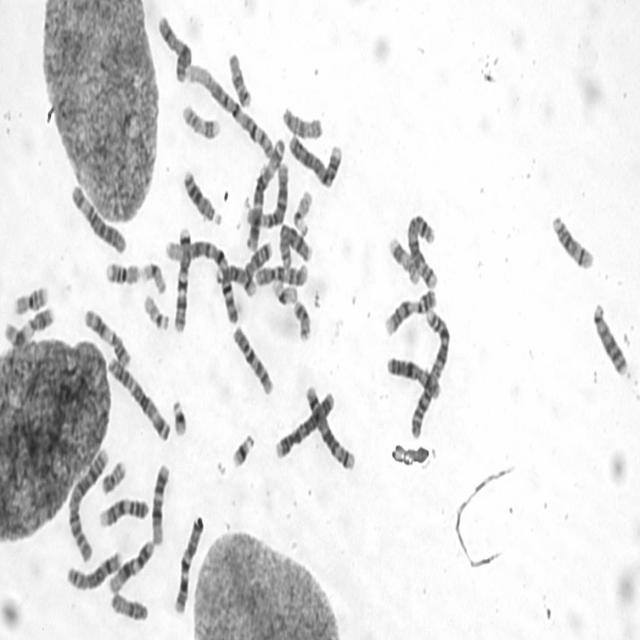A1: (184, 61, 275, 160), (163, 233, 240, 325)
A2: (408, 306, 452, 441), (66, 444, 109, 564)
A3: (106, 353, 172, 443), (244, 133, 286, 251)
B4: (273, 386, 336, 461), (286, 129, 343, 191)
B5: (304, 381, 356, 471), (405, 208, 438, 290)
C10: (230, 322, 275, 398), (253, 260, 310, 288)
C11: (83, 303, 132, 367), (2, 302, 55, 350)
C12: (107, 536, 155, 594), (149, 461, 171, 547)
C6: (70, 180, 127, 255), (246, 157, 290, 232)
C7: (172, 513, 205, 615), (171, 224, 192, 335)
C8: (64, 547, 122, 591), (277, 218, 312, 270)
C9: (382, 284, 438, 336), (98, 494, 150, 530)
D13: (590, 299, 629, 379), (182, 165, 222, 227)
D14: (549, 210, 595, 272), (213, 262, 256, 296)
D15: (280, 103, 324, 141), (109, 589, 150, 623)
E16: (12, 281, 49, 316), (104, 258, 141, 287)
E17: (387, 235, 421, 288), (180, 101, 222, 141)
E18: (227, 49, 252, 109), (243, 237, 273, 281)
F19: (140, 258, 167, 295), (270, 276, 299, 306)
F20: (100, 457, 127, 496), (290, 296, 312, 343)
G21: (228, 429, 257, 470), (171, 396, 188, 438)
G22: (142, 289, 170, 332), (290, 187, 314, 236)
X: (385, 352, 442, 400), (156, 11, 192, 83)
